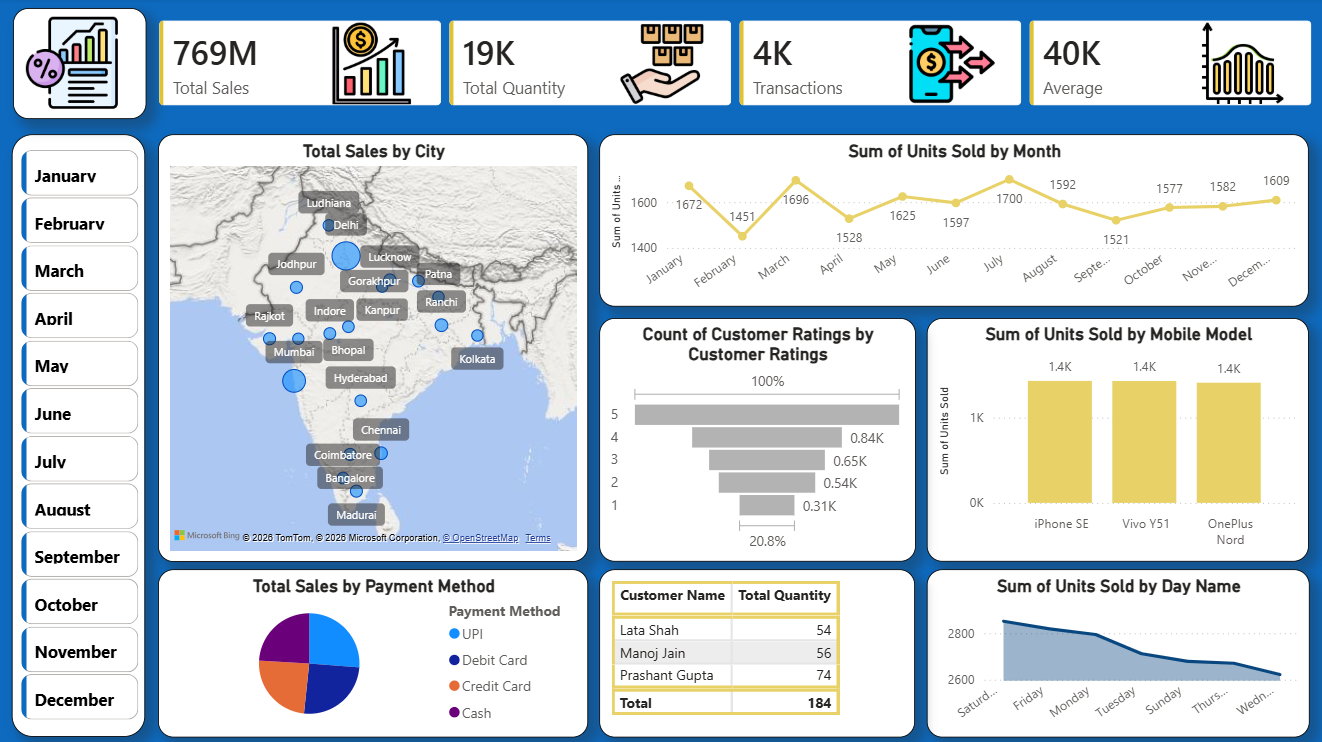

Layout of this report page (visuals, bound fields, positions):
{"tool":"powerbi","page":{"name":"Page 1","canvas":[1280,720],"ordinal":0},"visuals":[{"type":"shape","box":[13.5,131.3,128.6,581.9],"z":0},{"type":"advancedSlicerVisual","fields":{"Values":["Sales_Data.Date.Variation.Date Hierarchy.Month"]},"box":[18.9,143.5,119.1,557.6],"z":1000},{"type":"shape","box":[14.9,9.5,128.6,106.9],"z":2000},{"type":"cardVisual","fields":{"Data":["Sales_Data.Total Sales","Sales_Data.Total Quantity","Sales_Data.Transactions","Sales_Data.Average","Sales_Data.Average"]},"box":[143.5,9.5,1136.8,106.9],"z":3000},{"type":"map","fields":{"Category":["Sales_Data.City"],"Size":["Sales_Data.Total Sales"]},"box":[154.3,131.3,415.5,412.8],"z":4000},{"type":"lineChart","fields":{"Y":["Sum(Sales_Data.Units Sold)"],"Category":["Sales_Data.Date.Variation.Date Hierarchy.Month"]},"box":[580.6,131.3,684.8,166.5],"z":5000},{"type":"clusteredColumnChart","fields":{"Category":["Sales_Data.Mobile Model"],"Y":["Sum(Sales_Data.Units Sold)"]},"box":[896.4,308.8,369.2,235.3],"z":6000},{"type":"funnel","fields":{"Category":["Sales_Data.Customer Ratings"],"Y":["CountNonNull(Sales_Data.Customer Ratings)"]},"box":[580.3,308.8,305.2,235.3],"z":7000},{"type":"pieChart","fields":{"Category":["Sales_Data.Payment Method"],"Y":["Sales_Data.Total Sales"]},"box":[154.3,550.8,415.5,162.4],"z":8000},{"type":"areaChart","fields":{"Category":["Sales_Data.Day Name"],"Y":["Sum(Sales_Data.Units Sold)"]},"box":[895.9,550.8,369.5,162.4],"z":9000},{"type":"tableEx","fields":{"Values":["Sales_Data.Customer Name","Sales_Data.Total Quantity"]},"box":[580,551,305,162],"z":10000},{"type":"image","box":[13.8,17.5,116.2,88.8],"z":10001}]}

Visuals, with their boxes in screenshot pixels (x1, y1, x2, y2), scaled from the page's 1280x720 canvas onto the 1322x742 screenshot:
shape: [14,135,147,735]
advancedSlicerVisual - Sales_Data.Date.Variation.Date Hierarchy.Month: [20,148,143,723]
shape: [15,10,148,120]
cardVisual - Sales_Data.Total Sales x Sales_Data.Total Quantity: [148,10,1321,120]
map - Sales_Data.City x Sales_Data.Total Sales: [159,135,588,561]
lineChart - Sum(Sales_Data.Units Sold) x Sales_Data.Date.Variation.Date Hierarchy.Month: [600,135,1307,307]
clusteredColumnChart - Sales_Data.Mobile Model x Sum(Sales_Data.Units Sold): [926,318,1307,561]
funnel - Sales_Data.Customer Ratings x CountNonNull(Sales_Data.Customer Ratings): [599,318,915,561]
pieChart - Sales_Data.Payment Method x Sales_Data.Total Sales: [159,568,588,735]
areaChart - Sales_Data.Day Name x Sum(Sales_Data.Units Sold): [925,568,1307,735]
tableEx - Sales_Data.Customer Name x Sales_Data.Total Quantity: [599,568,914,735]
image: [14,18,134,110]
